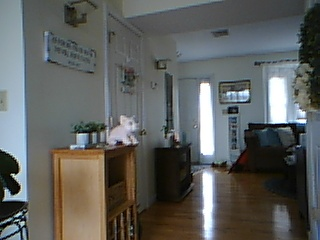piggy: (106, 114, 142, 147)
